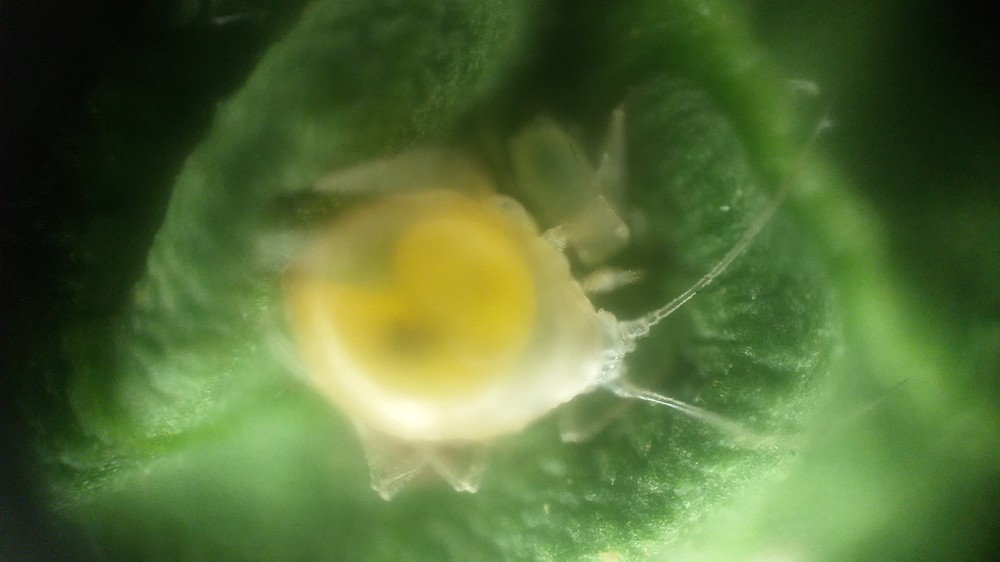Pulgon: (263, 125, 894, 514)
